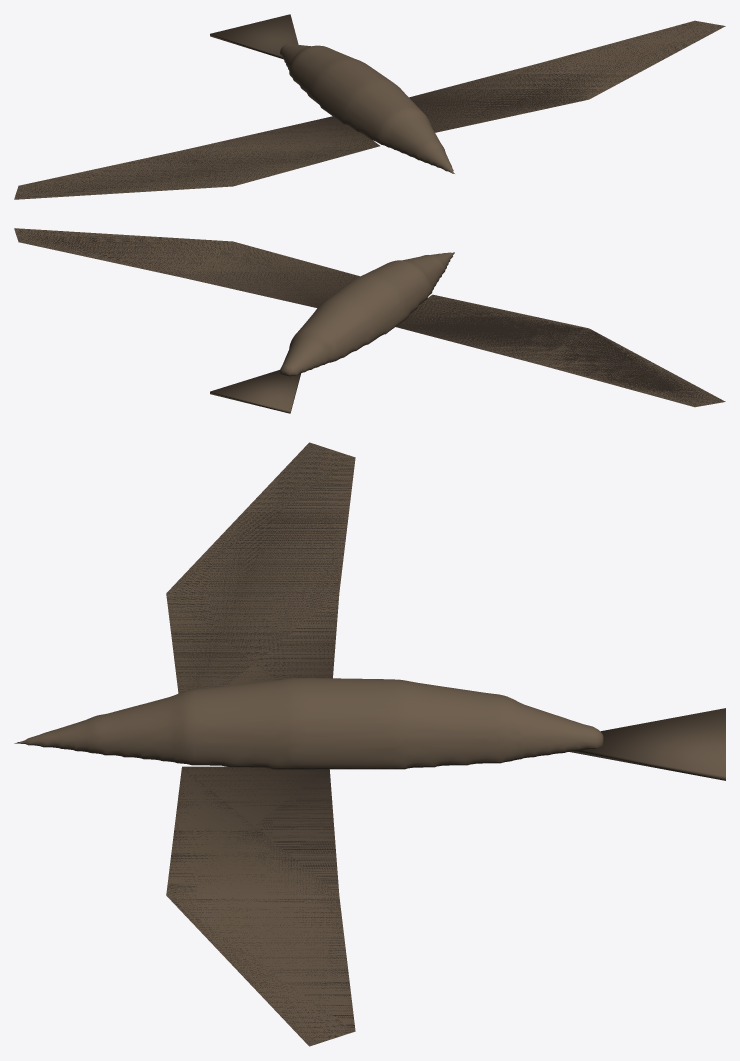
The model's file is adler.glb.
3 renders of one model, top to bottom at view 1: azimuth 30°, elevation 25°; view 2: azimuth 150°, elevation 25°; view 3: azimuth 270°, elevation 25°, orthographic. The views are drawn at different scales.
Visible parts, largest first — view 1: lack; view 2: lack; view 3: lack.
Boxes of the visible parts, box(x1,y1,x2,y2) form: lack: box(14, 14, 725, 199); lack: box(14, 228, 725, 413); lack: box(14, 442, 725, 1046).
Size of the model in its own units: 2.1 by 0.1013 by 1.05.
